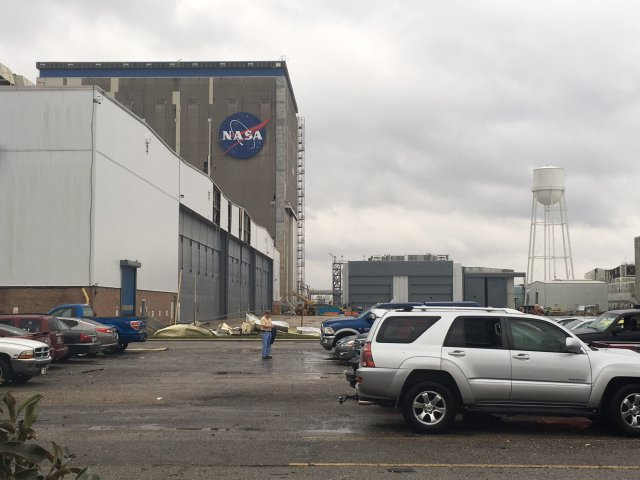NASA: (217, 112, 272, 161)
